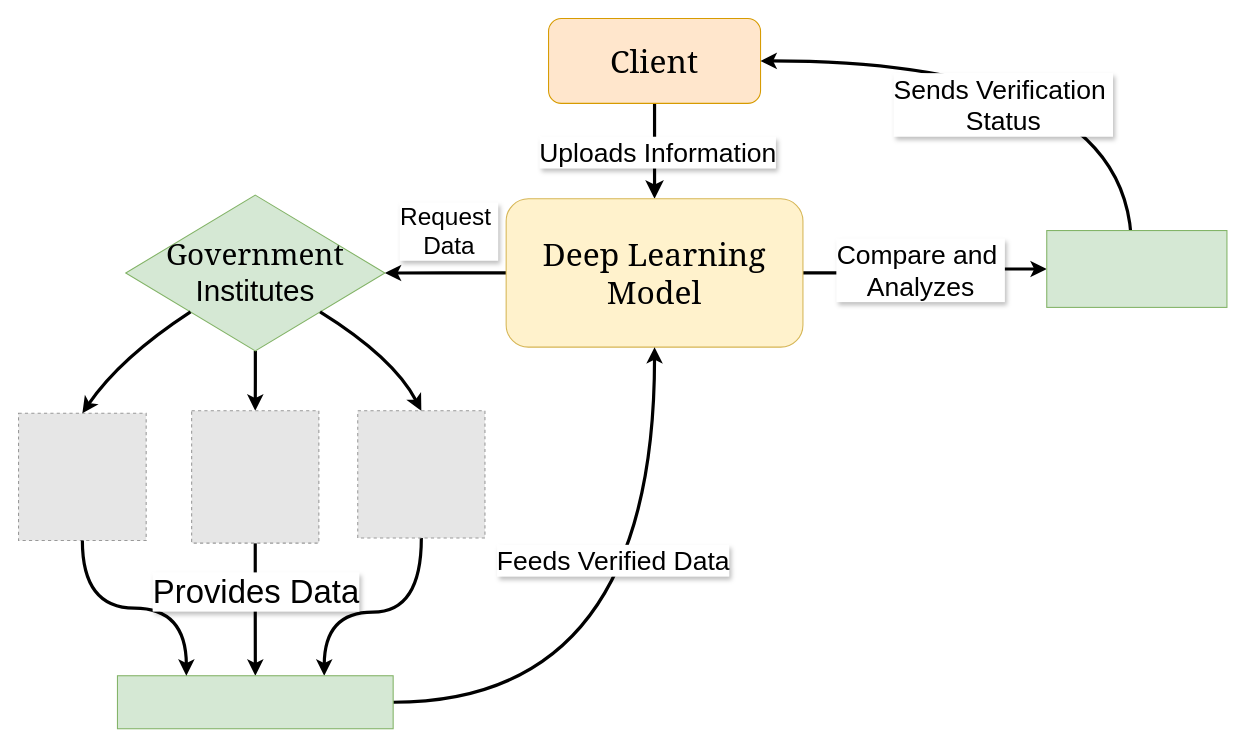
This 1245x747 diagram has some shape labels left out. Grey dashed boxes stand in for pictures. The shapes that lost their labels are listed below. From the top down, each one's centre as x and y in pixels, then its label:
At point 1136,268: "Verification Result".
At point 254,702: "Data Integration Layer".
